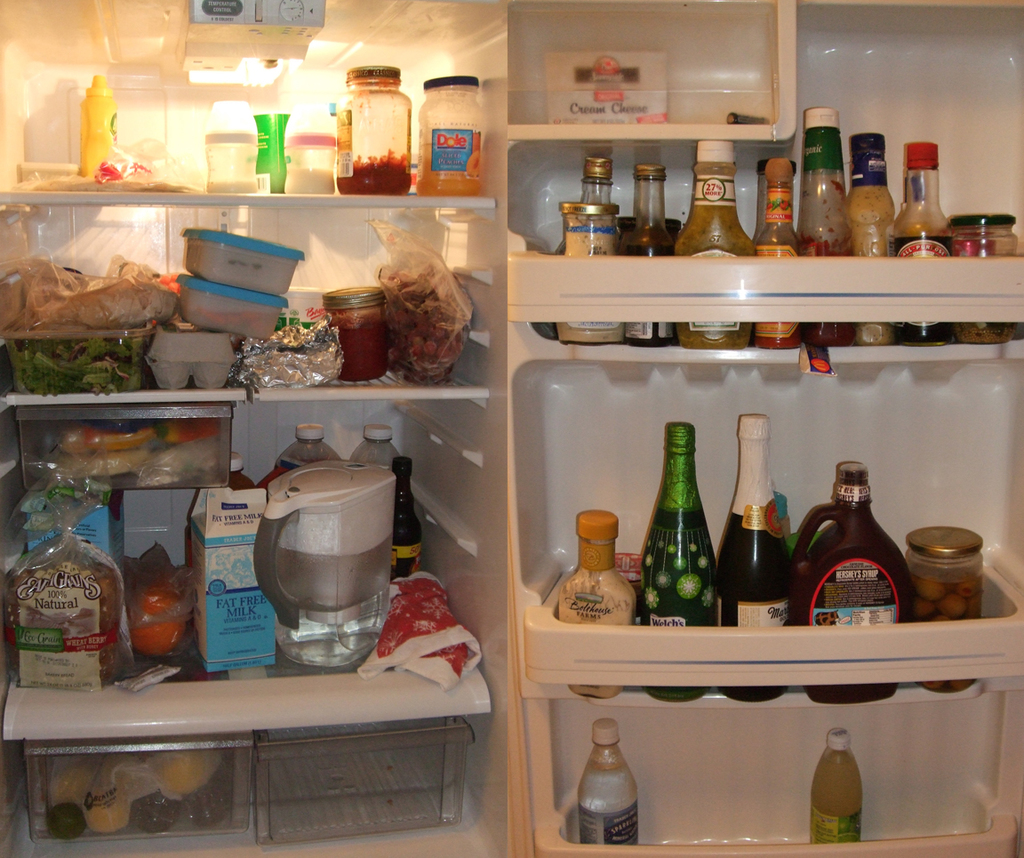refrigerator door: (515, 26, 1012, 854)
